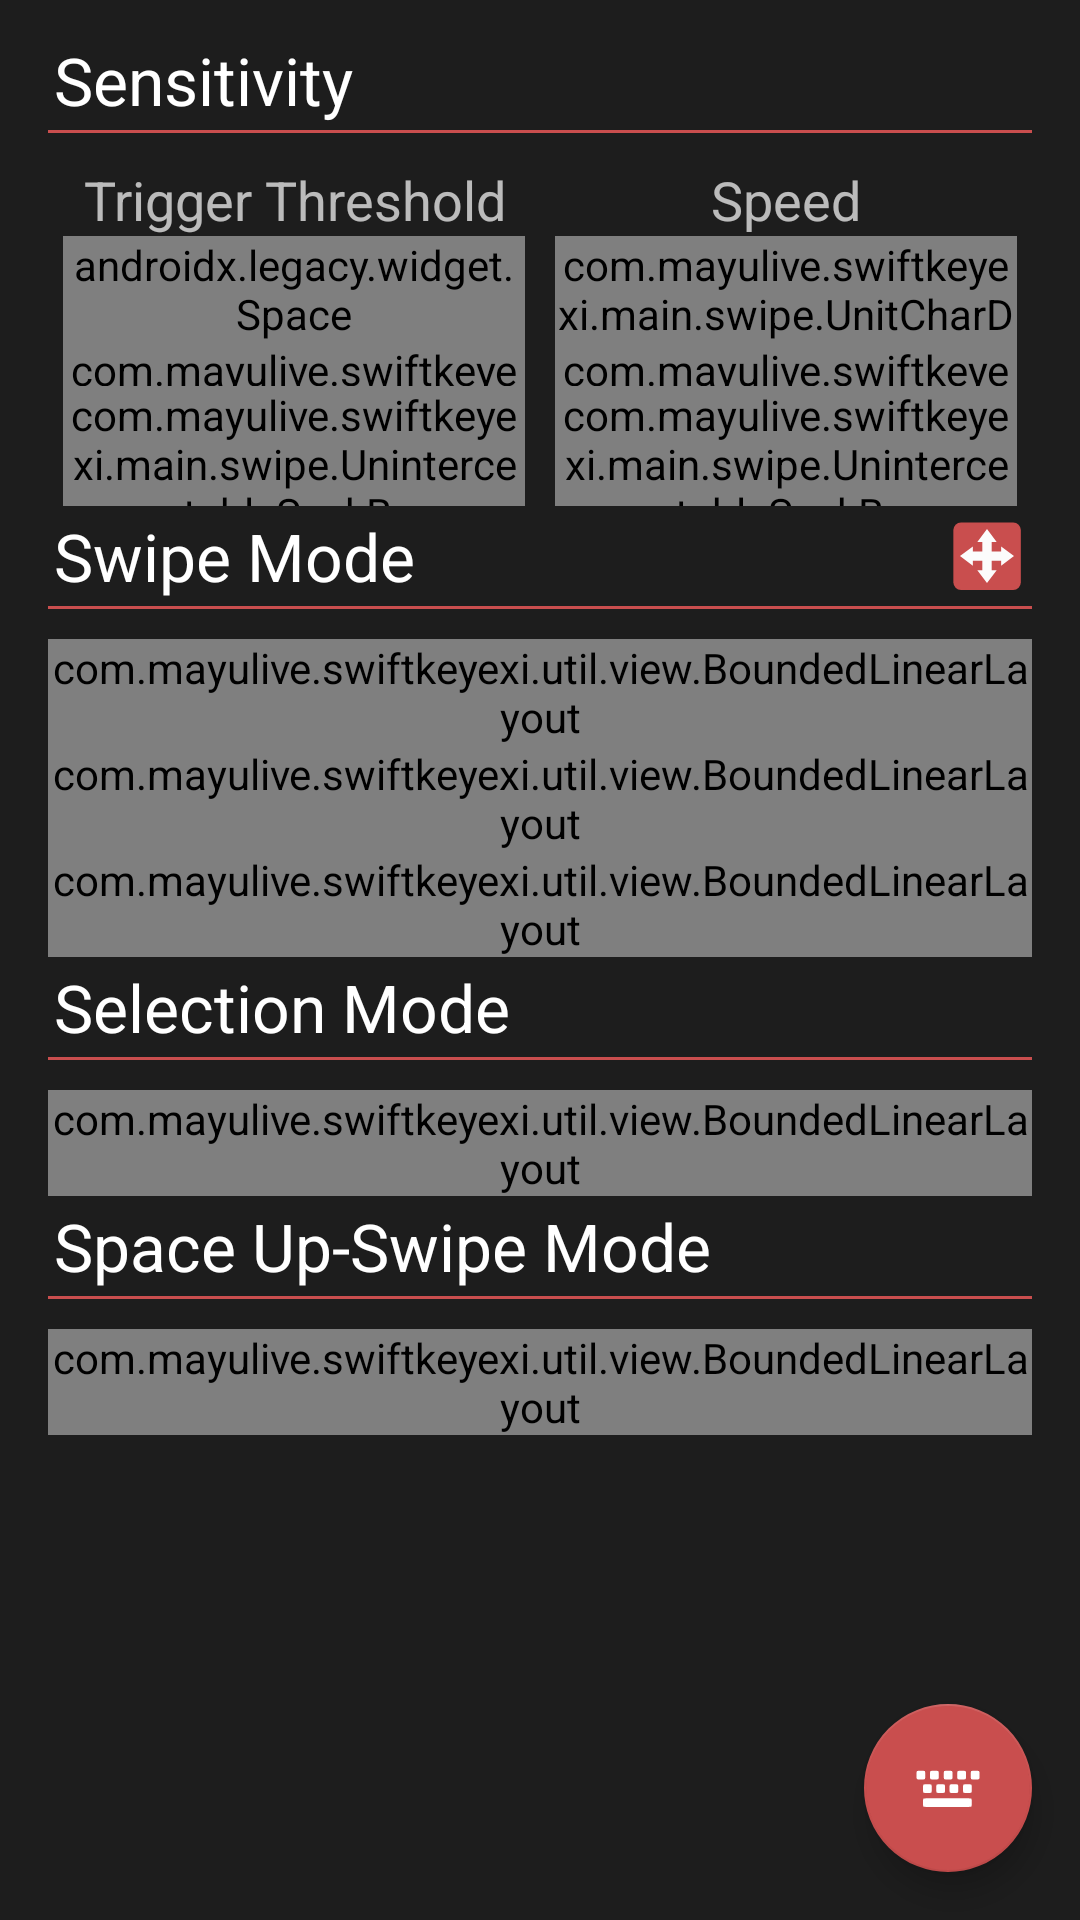

Named icons in this screenshot (1080w x 1920h) and their centers, (x=x, y=y):
keyboardbutton: (x=948, y=1788)
swipe direction any: (x=987, y=556)
